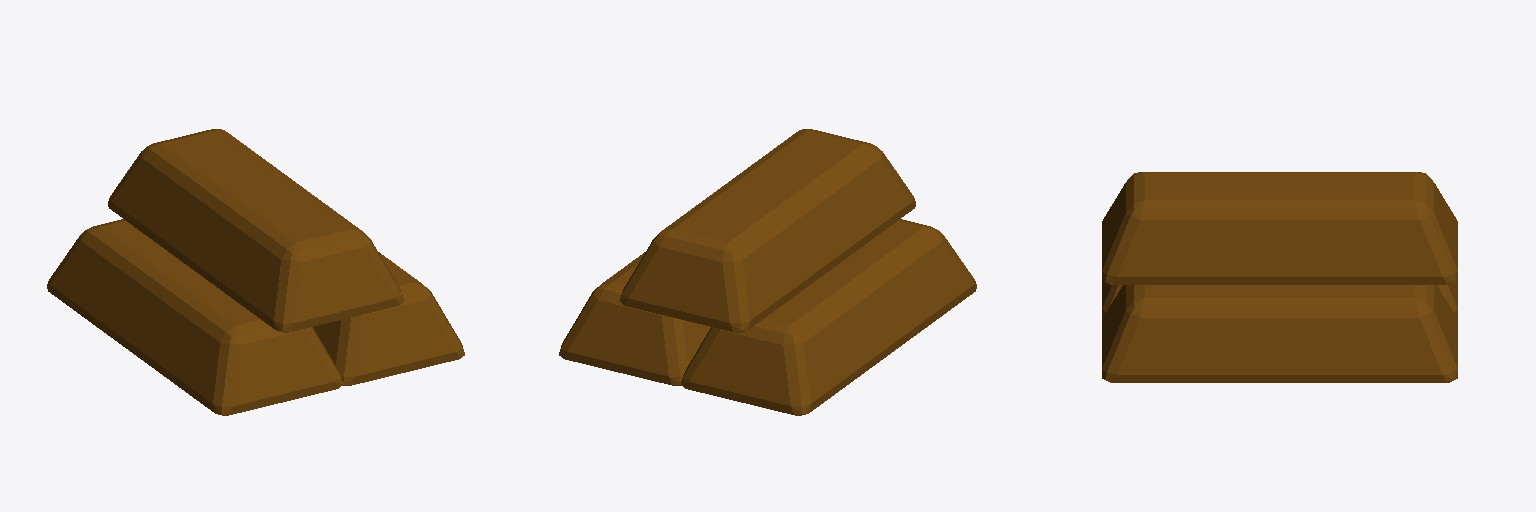
File: gold_bars.obj
The picture shows the model from 3 angles: view 1: azimuth 30°, elevation 25°; view 2: azimuth 150°, elevation 25°; view 3: azimuth 270°, elevation 25°; orthographic projection.
Visible parts, largest first — view 1: gold_bars_Cube.471; view 2: gold_bars_Cube.471; view 3: gold_bars_Cube.471.
Part boxes in pixels (x1,y1,x2,y2): gold_bars_Cube.471: (47, 129, 464, 415); gold_bars_Cube.471: (559, 129, 976, 415); gold_bars_Cube.471: (1102, 172, 1457, 382).
Bounding box in the file's own units: 0.5724 × 0.3056 × 0.7085.